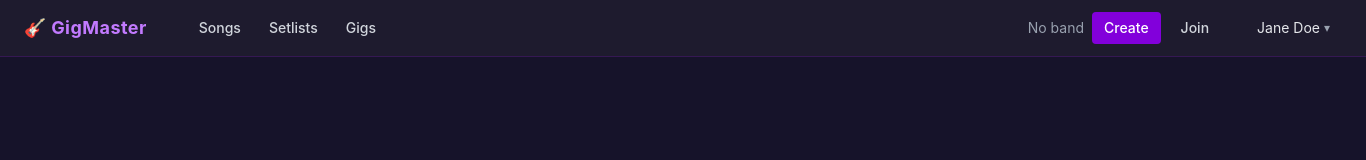
Test: NavBar › user menu › opens the dropdown with Edit Profile and Logout, with aria-expanded
Click the button "Jane Doe ▾".
click(1294, 28)  # box [1245, 12, 1342, 44]
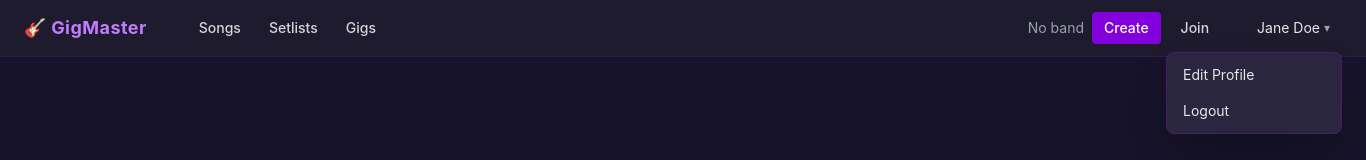
Check: the menu item "Edit Profile" is shown, box [1167, 57, 1341, 93]
Check: the menu item "Logout" is shown, box [1167, 93, 1341, 129]
